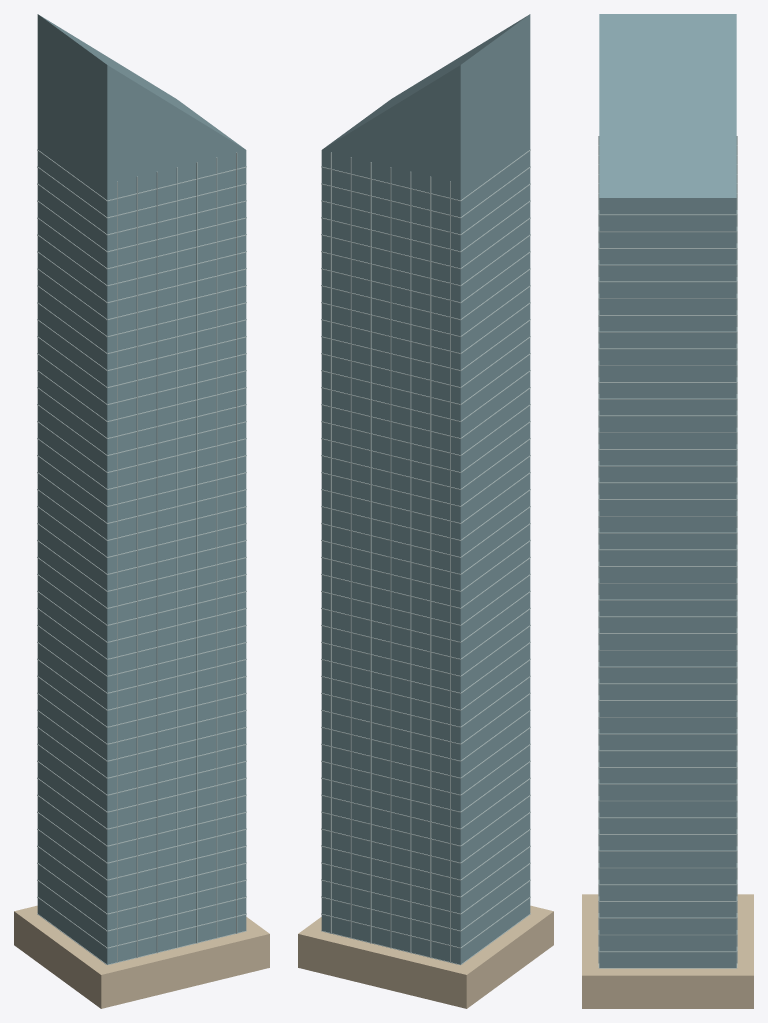
The model's file is ifc-south.glb.
The picture shows the model from 3 angles, left to right: view 1: azimuth 30°, elevation 25°; view 2: azimuth 150°, elevation 25°; view 3: azimuth 270°, elevation 25°; orthographic projection.
Visible parts, largest first — view 1: ifc-south; view 2: ifc-south; view 3: ifc-south.
Part boxes in pixels (bbox=[...]): ifc-south: bbox=[14, 14, 269, 1008]; ifc-south: bbox=[298, 14, 553, 1008]; ifc-south: bbox=[582, 14, 753, 1008].
Bounding box in the file's own units: 47.25 × 250 × 42.24.
